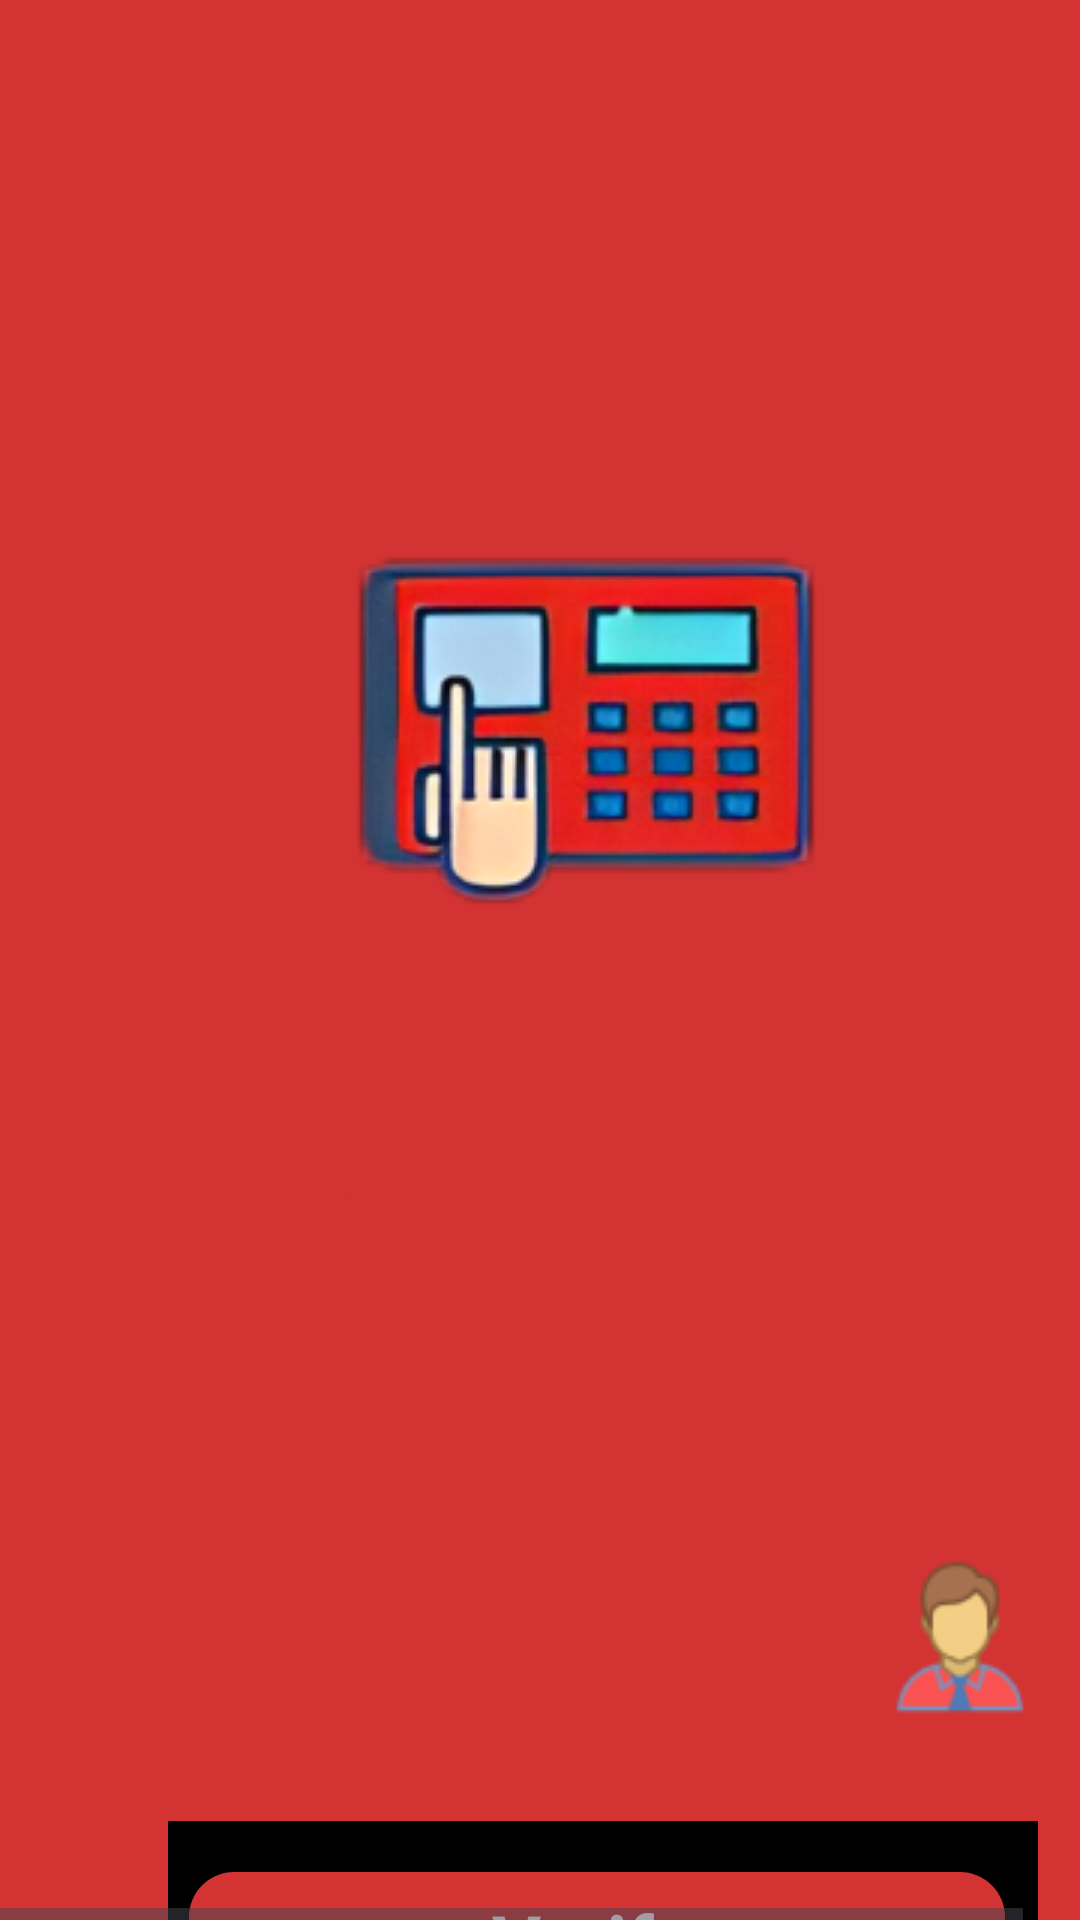

Point at icon controls on the screen. Image size 1080x1920, points as (x=x, y=y).
admin: (x=960, y=1637)
